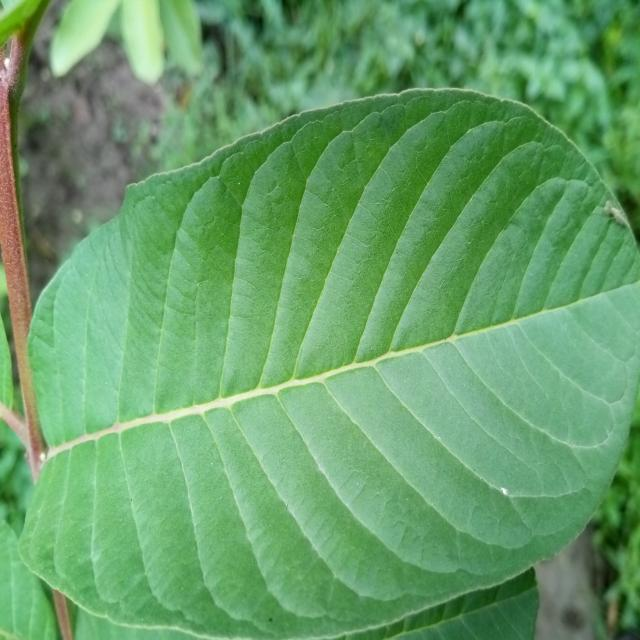Disease Free: (20, 90, 640, 635)
